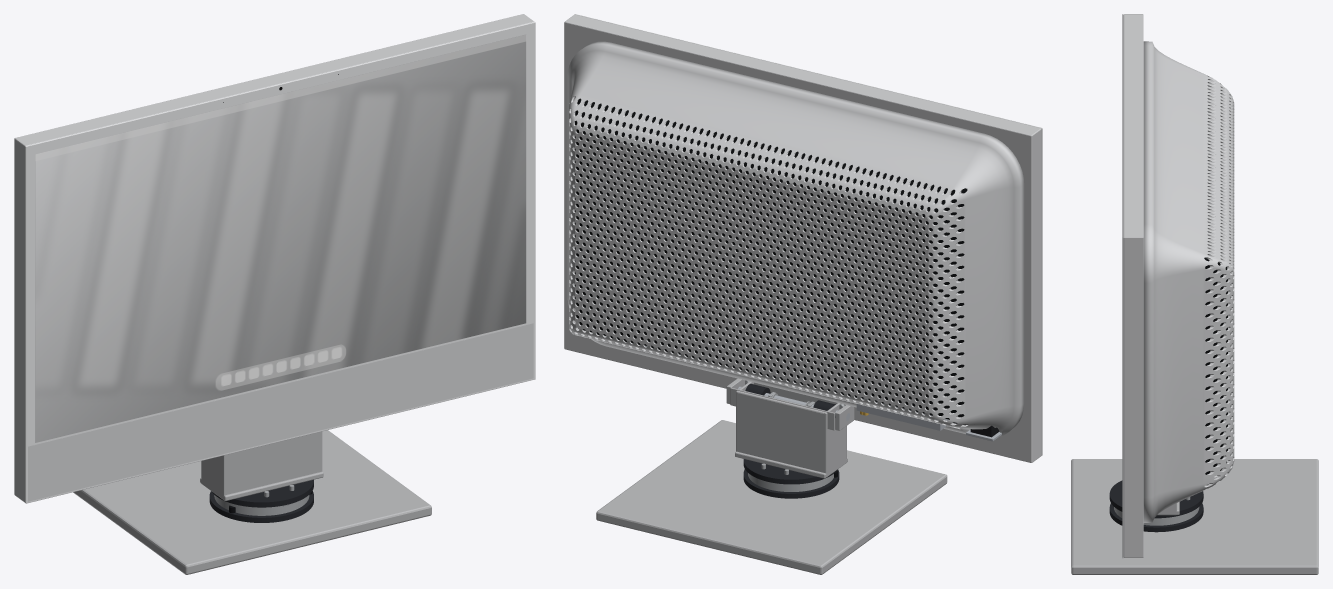
Rendered from imac_pc.v008__2026-11-06_7ed5c4c.glb.
3 views of the same model, side by side, from view 1: azimuth 30°, elevation 25°; view 2: azimuth 150°, elevation 25°; view 3: azimuth 270°, elevation 25° (orthographic). The views are drawn at different scales.
Visible parts, largest first — view 1: display, chin_print, stand_foot, front_glass, slab, stand_arm1, stand_swivel_rotor, stand_swivel_stator, stand_neck_side0, stand_swivel_bearing, stand_neck_web; view 2: cover_back, stand_foot, cover_filter, slab, stand_arm0, stand_swivel_rotor, stand_neck_side0, front_glass, stand_swivel_stator, io_shield, stand_swivel_bearing, stand_neck_web; view 3: cover_back, stand_foot, slab, front_glass, cover_filter, stand_swivel_rotor, stand_swivel_stator, stand_swivel_bearing.
Boxes of the visible parts, box(x1,y1,x2,y2) form: display: box(35, 34, 526, 442); chin_print: box(28, 323, 533, 501); stand_foot: box(73, 430, 431, 574); front_glass: box(25, 22, 535, 503); slab: box(14, 14, 534, 502); stand_arm1: box(221, 432, 321, 498); stand_swivel_rotor: box(212, 479, 313, 507); stand_swivel_stator: box(209, 491, 313, 522); stand_neck_side0: box(201, 455, 224, 499); stand_swivel_bearing: box(214, 495, 309, 515); stand_neck_web: box(200, 471, 323, 500); cover_back: box(567, 41, 1024, 436); stand_foot: box(596, 420, 947, 574); cover_filter: box(575, 96, 967, 425); slab: box(564, 14, 1041, 462); stand_arm0: box(737, 391, 828, 475); stand_swivel_rotor: box(743, 459, 836, 484); stand_neck_side0: box(824, 403, 846, 477); front_glass: box(575, 14, 1042, 455); stand_swivel_stator: box(743, 469, 839, 498); io_shield: box(856, 397, 949, 430); stand_swivel_bearing: box(748, 473, 833, 491); stand_neck_web: box(735, 451, 847, 478); cover_back: box(1143, 41, 1234, 522); stand_foot: box(1071, 459, 1318, 574); slab: box(1123, 14, 1143, 557); front_glass: box(1122, 14, 1123, 557); cover_filter: box(1204, 258, 1227, 474); stand_swivel_rotor: box(1109, 480, 1203, 518); stand_swivel_stator: box(1109, 503, 1203, 532); stand_swivel_bearing: box(1114, 507, 1199, 525).
Bounding box in the file's own units: 620 × 515 × 290.
Materials: 64 (4 with a texture image).
